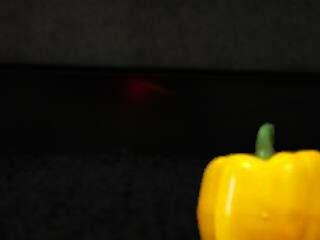Capsicum: (196, 121, 319, 240)
